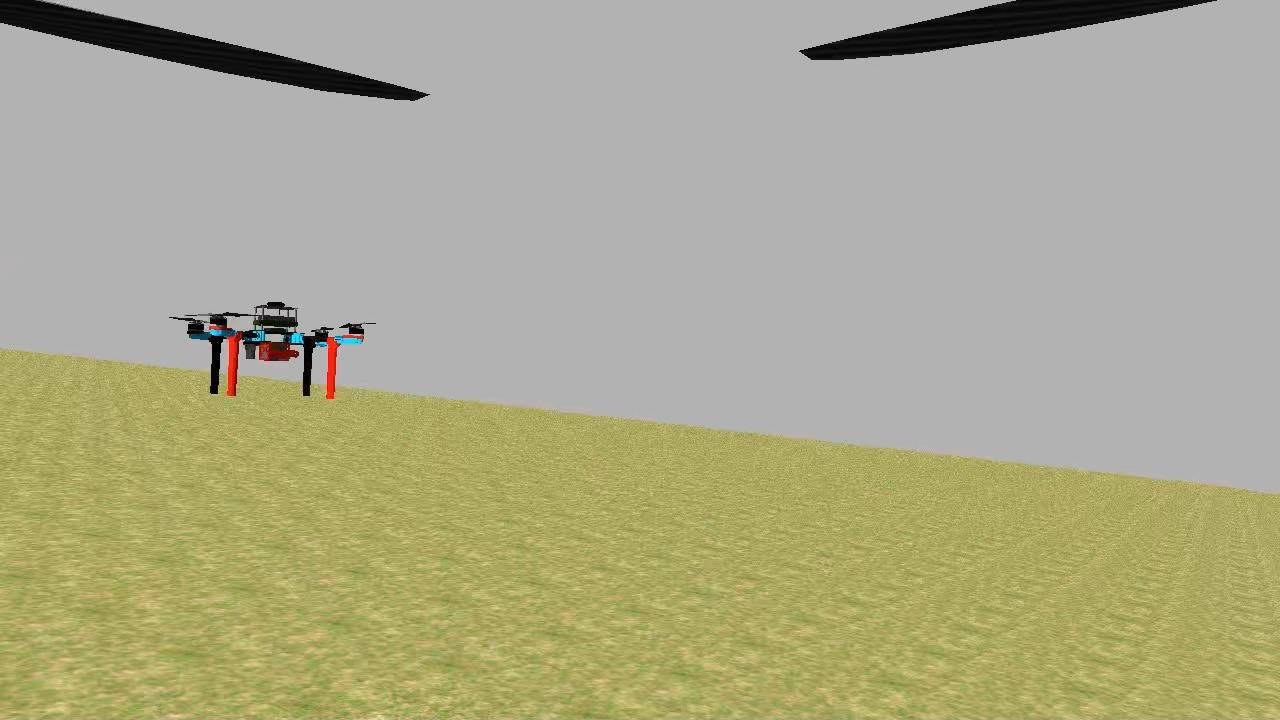UAV: (182, 298, 370, 400)
